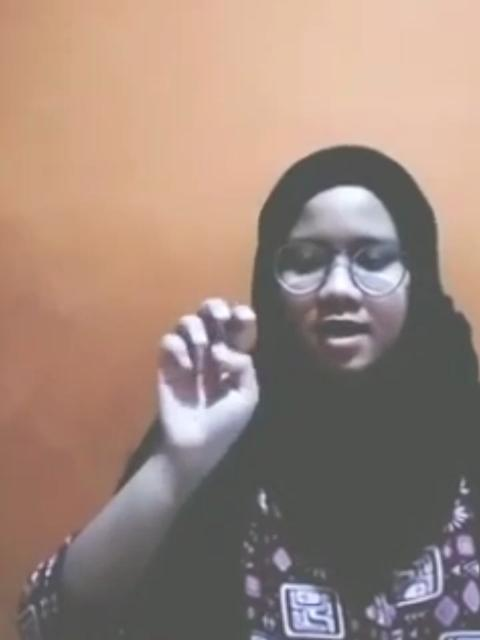S: (154, 294, 268, 464)
